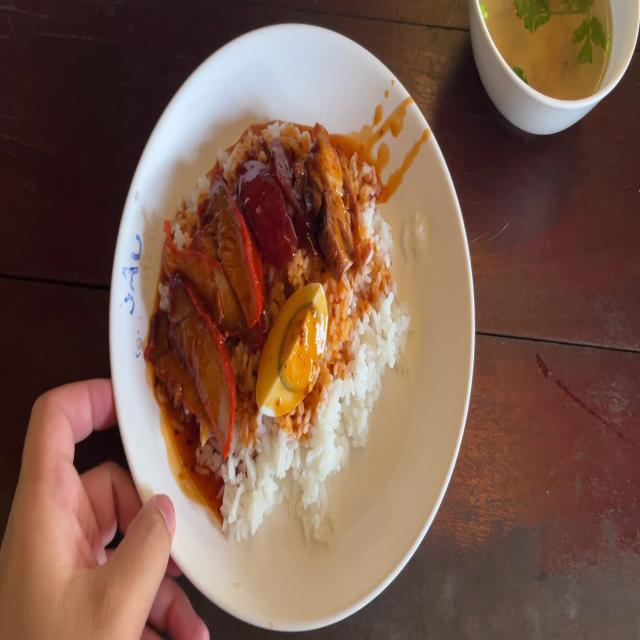01boiled_egg: (264, 278, 328, 410)
01chainese_sausage: (242, 133, 312, 262)
01crispy_pork: (310, 124, 350, 272)
01red_pork: (160, 181, 253, 445)
01red_pork_and_crispy_pork: (164, 115, 408, 533)
01rice: (336, 192, 406, 418), (226, 418, 346, 538)
